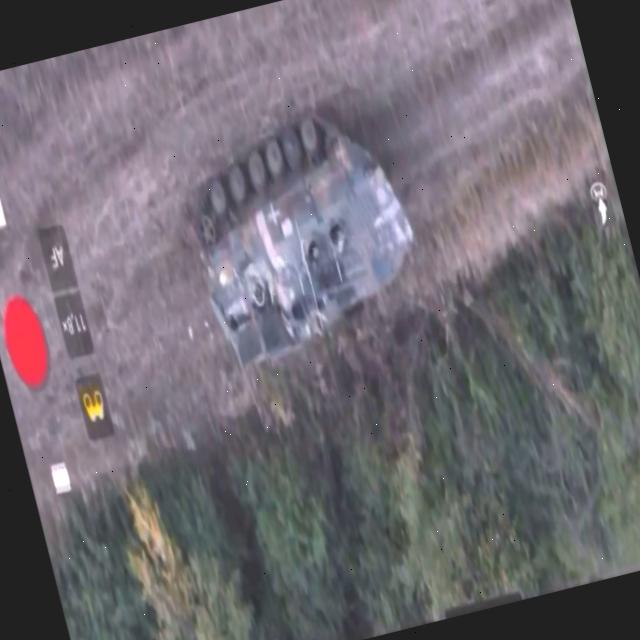AIFV: (170, 81, 443, 382)
